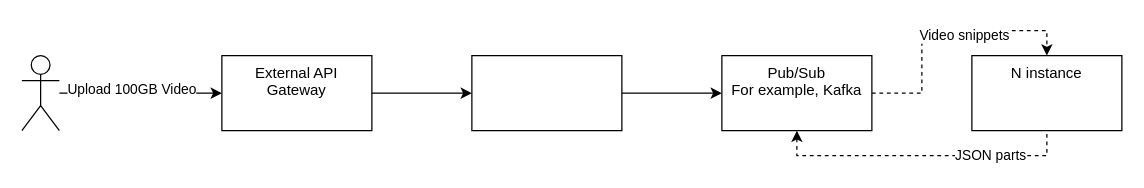
Image size: 1144x188. Some labels were removed from this diagram. The shapes that lost their labels are listed below. From the top down, each one's centre as x and y in pixels, then its label:
(x=40, y=92): Client
(x=546, y=92): Lightweight data processing such as data splitting
